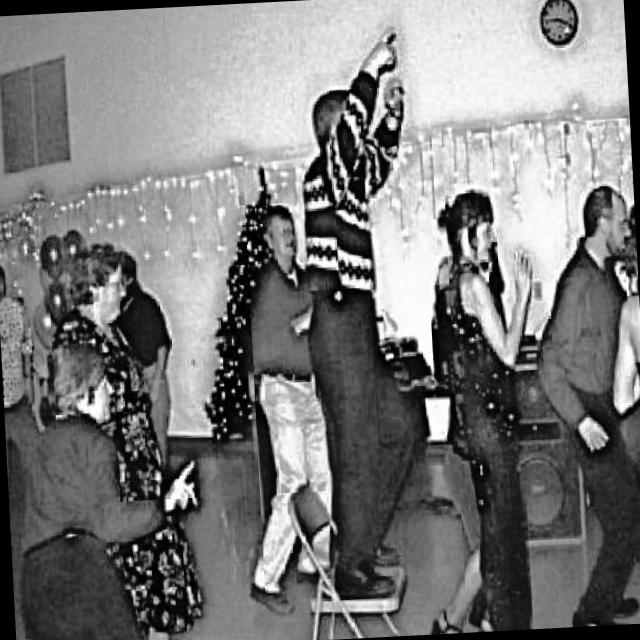Person: (289, 17, 439, 600), (11, 334, 214, 640), (53, 236, 201, 640), (424, 183, 554, 634), (533, 174, 640, 628), (234, 193, 342, 622), (0, 245, 58, 557), (602, 177, 640, 624), (116, 237, 178, 467)
